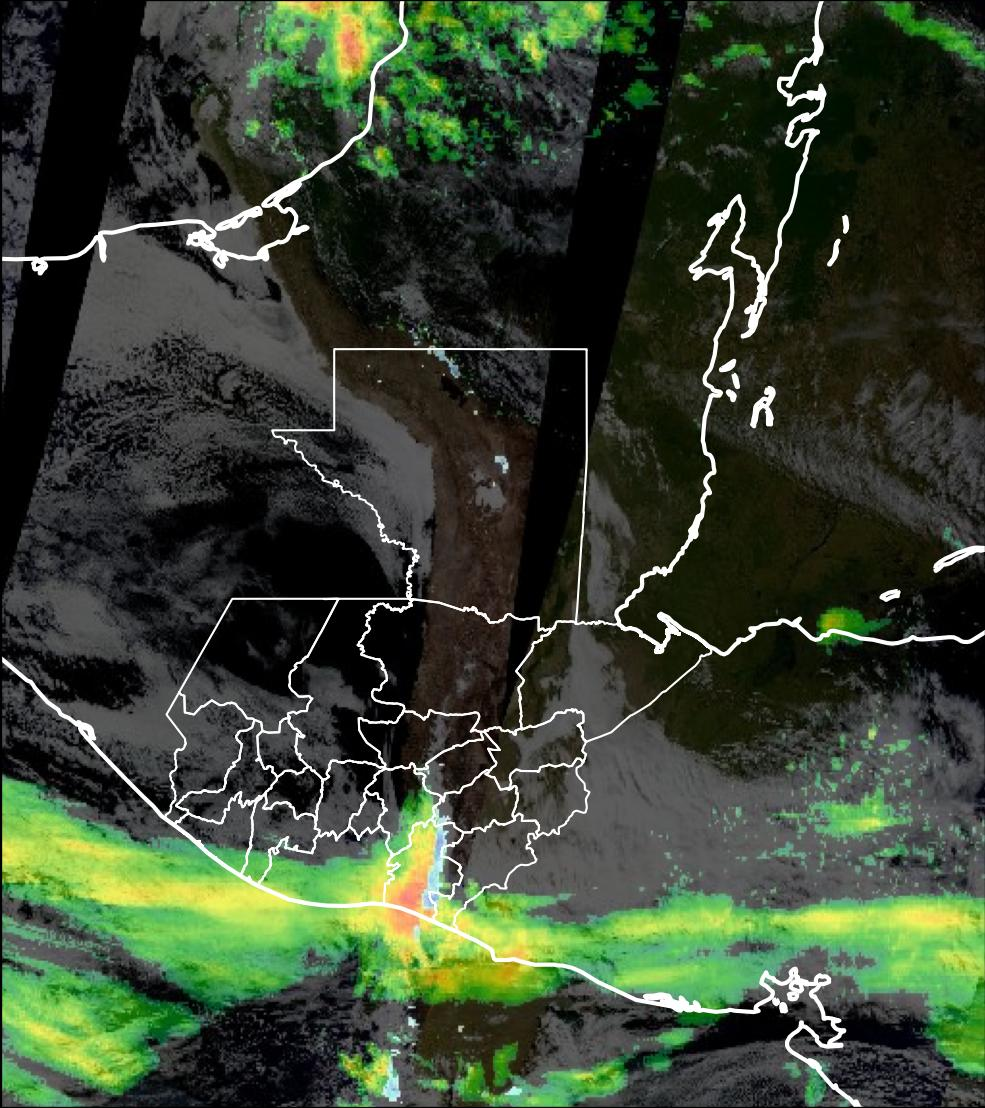precipitacion: (270, 1, 388, 102)
